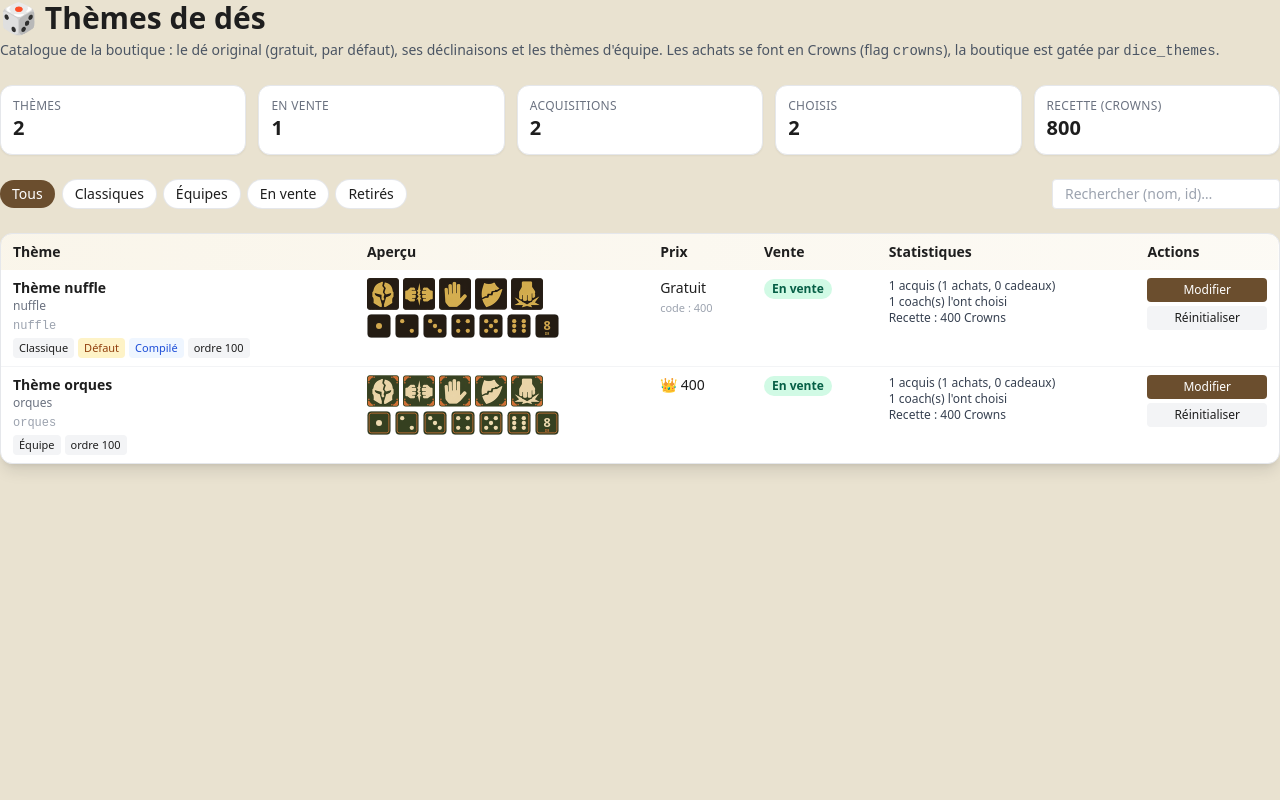
Test case: AdminDiceThemesPage › modale nommée, fermée par Échap
Click the button with test id "admin-dice-edit-orques". click: (1207, 387)
box: [1148,375,1267,399]
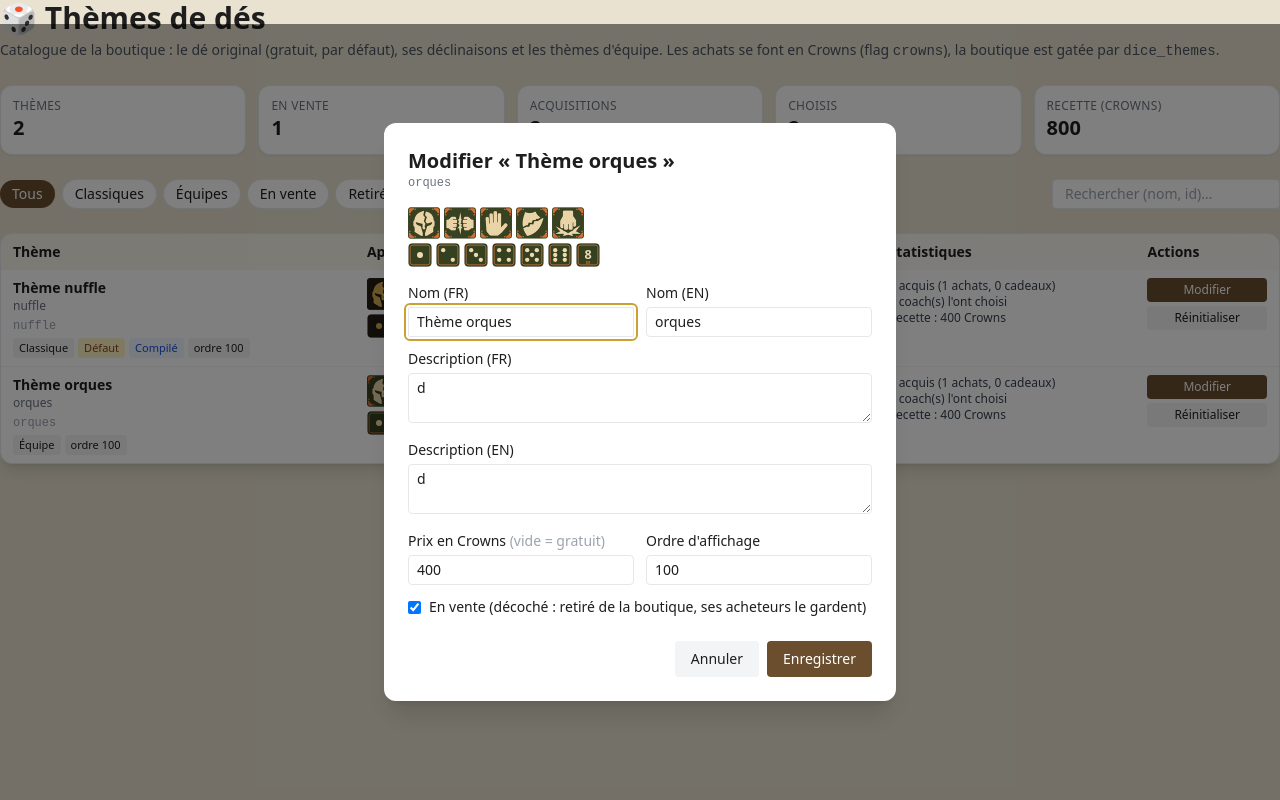
Now the dialog "Modifier « Thème orques »" is shown
Press Escape
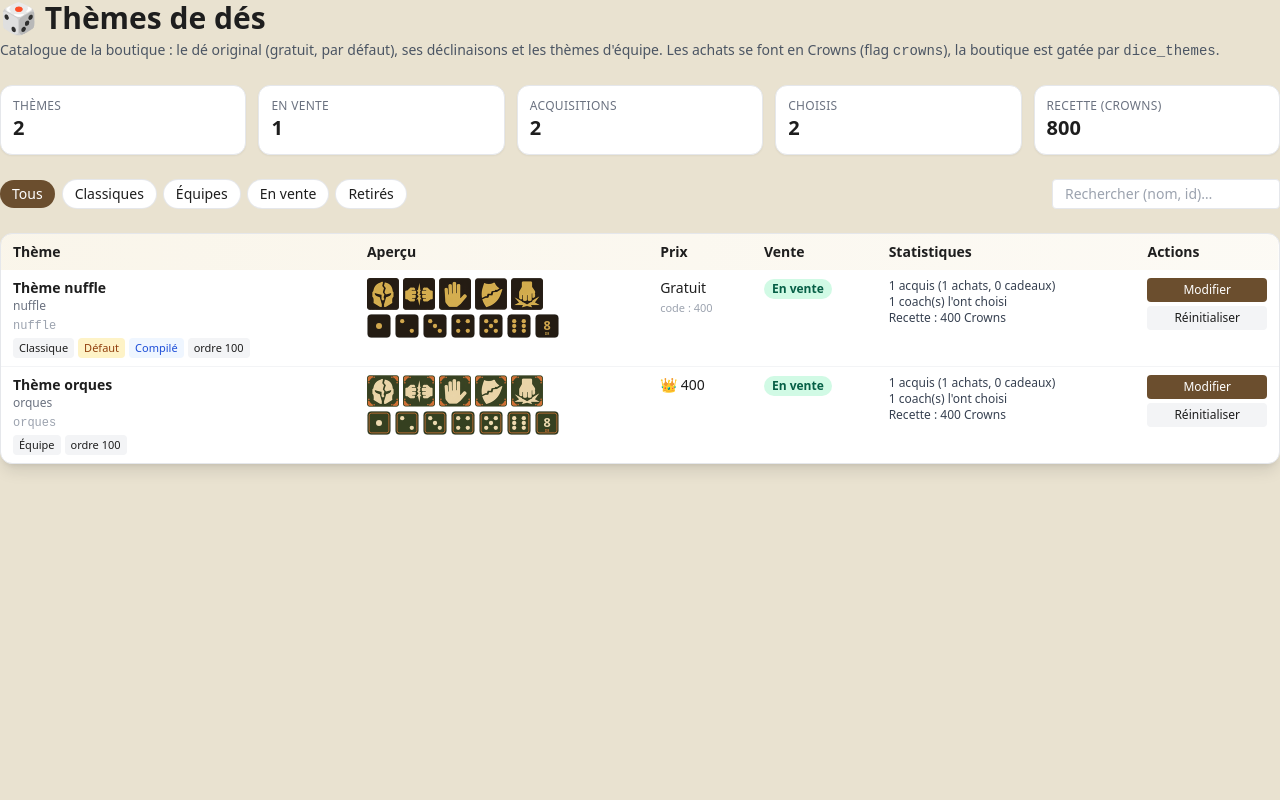
Now the form with test id "dice-theme-edit-modal" is gone
